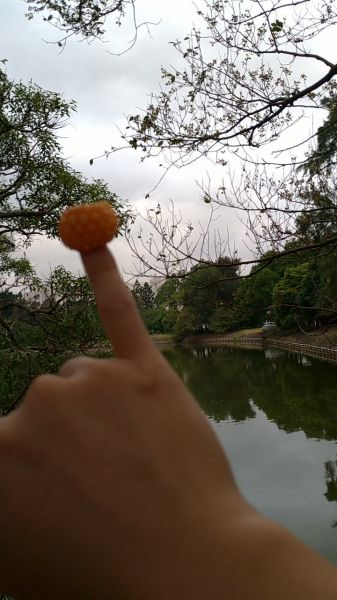eggs: (58, 200, 117, 251)
